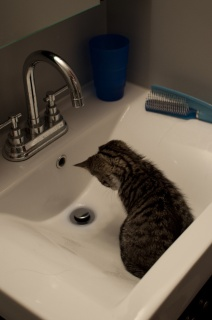Cat: (74, 135, 196, 276)
